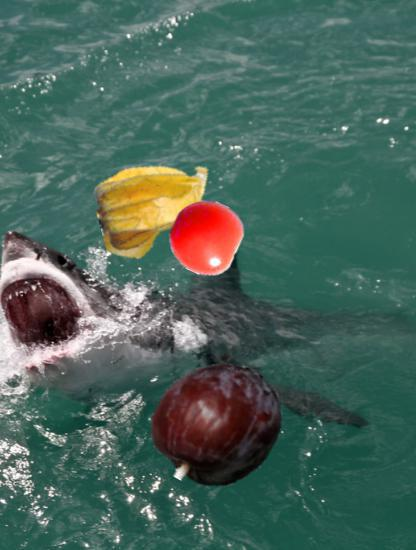Physalis: (97, 146, 218, 267)
Plum: (151, 360, 282, 491)
Tomato: (168, 200, 243, 275)
